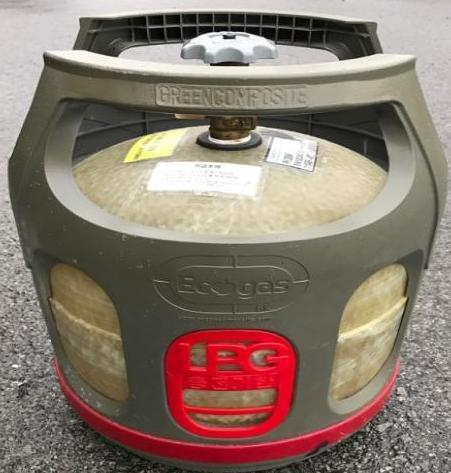cylinder: (1, 1, 451, 473)
